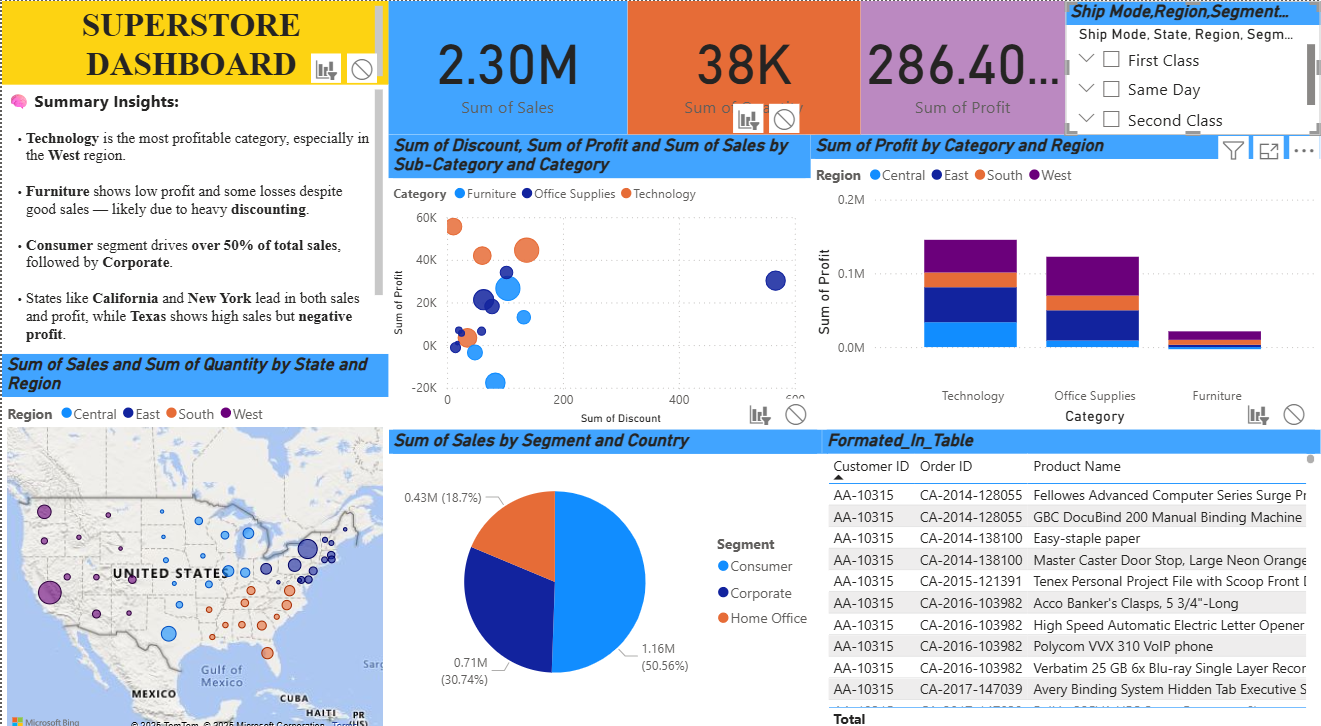

This screenshot's page, from the dashboard's own definition file:
{"tool":"powerbi","page":{"name":"Page 1","canvas":[1280,720],"ordinal":0},"visuals":[{"type":"card","fields":{"Values":["Sum(Sample - Superstore.Sales)"]},"box":[375,0,232.5,130],"z":0},{"type":"card","fields":{"Values":["Sum(Sample - Superstore.Quantity)"]},"box":[607.5,0,226.2,130],"z":1000},{"type":"card","fields":{"Values":["Sum(Sample - Superstore.Profit)"]},"box":[833.8,0,198.8,130],"z":2000},{"type":"lineStackedColumnComboChart","fields":{"Category":["Sample - Superstore.Category"],"Series":["Sample - Superstore.Region"],"Y":["Sum(Sample - Superstore.Profit)"]},"box":[785,130,495,286.2],"z":3000},{"type":"scatterChart","fields":{"X":["Sum(Sample - Superstore.Discount)"],"Y":["Sum(Sample - Superstore.Profit)"],"Category":["Sample - Superstore.Sub-Category"],"Series":["Sample - Superstore.Category"],"Size":["Sum(Sample - Superstore.Sales)"]},"box":[375,130,410,286.2],"z":4000},{"type":"pieChart","fields":{"Category":["Sample - Superstore.Segment"],"Series":["Sample - Superstore.Country"],"Y":["Sum(Sample - Superstore.Sales)"]},"box":[375,416.2,421.2,277.5],"z":5000},{"type":"tableEx","title":"Detailed Product Orders","fields":{"Values":["Sample - Superstore.Customer ID","Sample - Superstore.Order ID","Sample - Superstore.Product Name","Sum(Sample - Superstore.Sales)","Sum(Sample - Superstore.Profit)","Sum(Sample - Superstore.Quantity)","Sample - Superstore.City"]},"box":[796.2,416.2,483.8,303.8],"z":6000},{"type":"map","fields":{"Category":["Sample - Superstore.State"],"Size":["Sum(Sample - Superstore.Sales)"],"Series":["Sample - Superstore.Region"]},"box":[0,342.5,375,377.5],"z":7000},{"type":"slicer","title":"Ship Mode,Region,Segment...","fields":{"Values":["Sample - Superstore.Ship Mode","Sample - Superstore.State","Sample - Superstore.Region","Sample - Superstore.Segment","Sample - Superstore.Category"]},"box":[1032.5,0,247.5,130],"z":8000},{"type":"textbox","box":[0,0,375,81.2],"z":9000},{"type":"textbox","box":[0,81.2,375,261.2],"z":10000}]}

Visuals, with their boxes on the page's 1280x720 design canvas (x1, y1, x2, y2). These are canvas units, not pixel positions in the 1321x726 screenshot, which may show the page scaled, cropped or inside an application window:
card - Sum(Sample - Superstore.Sales): 375/0/608/130
card - Sum(Sample - Superstore.Quantity): 608/0/834/130
card - Sum(Sample - Superstore.Profit): 834/0/1033/130
lineStackedColumnComboChart - Sample - Superstore.Category x Sample - Superstore.Region: 785/130/1280/416
scatterChart - Sum(Sample - Superstore.Discount) x Sum(Sample - Superstore.Profit): 375/130/785/416
pieChart - Sample - Superstore.Segment x Sample - Superstore.Country: 375/416/796/694
"Detailed Product Orders" tableEx: 796/416/1280/720
map - Sample - Superstore.State x Sum(Sample - Superstore.Sales): 0/342/375/720
"Ship Mode,Region,Segment..." slicer: 1032/0/1280/130
textbox: 0/0/375/81
textbox: 0/81/375/342
